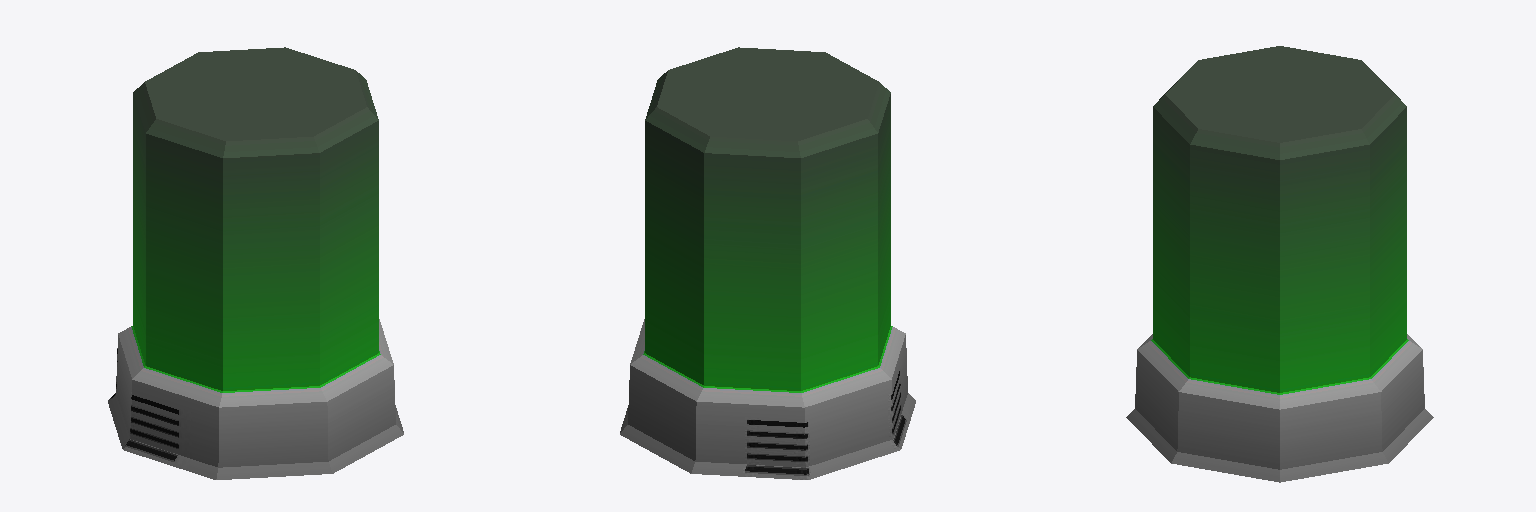
3 renders of one model, left to right at view 1: azimuth 30°, elevation 25°; view 2: azimuth 150°, elevation 25°; view 3: azimuth 270°, elevation 25°, orthographic.
Visible parts, largest first — view 1: mesh01; view 2: mesh01; view 3: mesh01.
Part boxes in pixels (x1,y1,x2,y2): mesh01: (108, 47, 403, 479); mesh01: (620, 47, 915, 479); mesh01: (1126, 46, 1433, 482).
Bounding box in the file's own units: 22.24 × 25.76 × 22.24.
Materials: 1 (1 with a texture image).